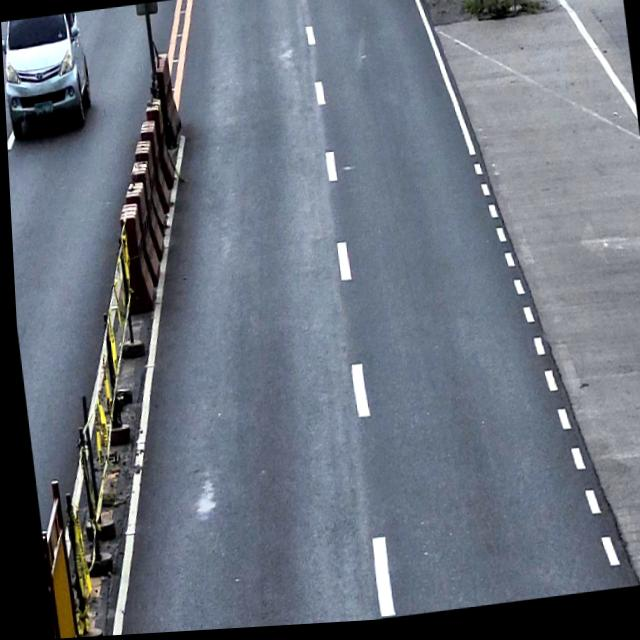Car: (1, 12, 93, 139)
License-Plate: (31, 98, 52, 117)
